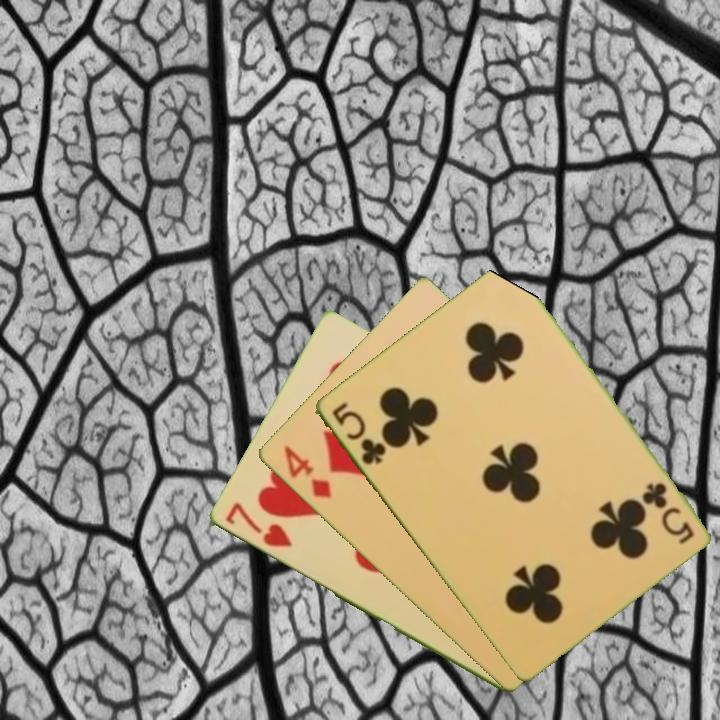4d: (279, 441, 334, 502)
5c: (327, 398, 389, 468), (640, 478, 696, 547)
7h: (221, 499, 295, 551)
